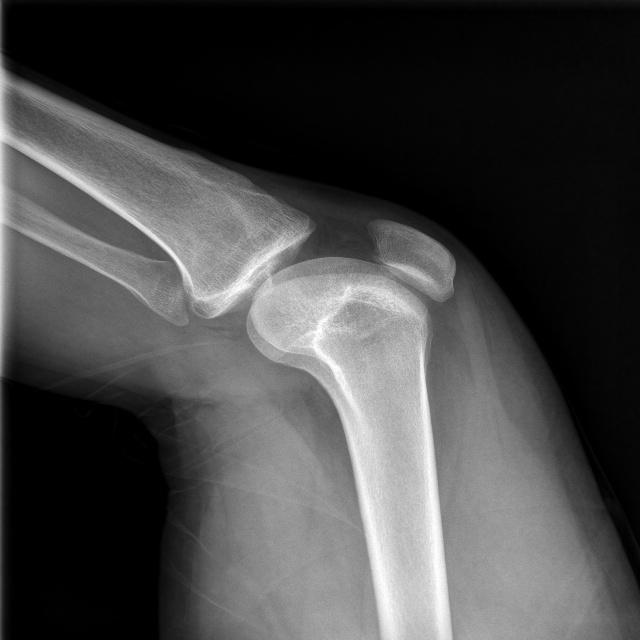Knee: (195, 215, 459, 370)
